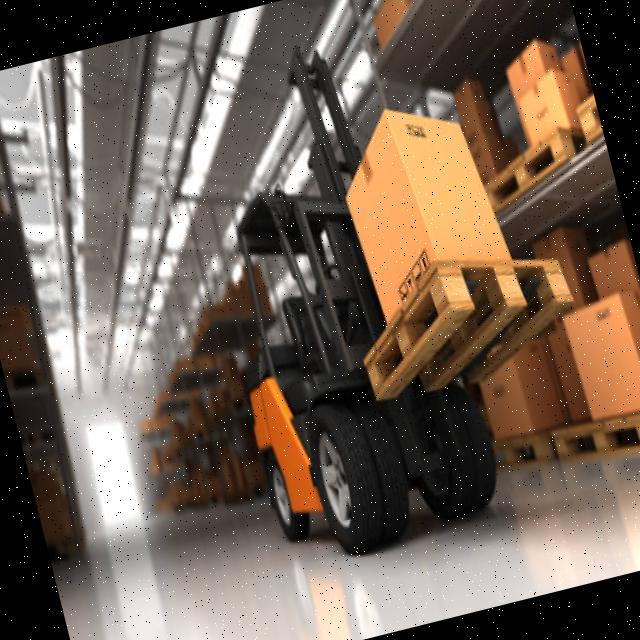Wooden-Pallets: (359, 245, 576, 404)
